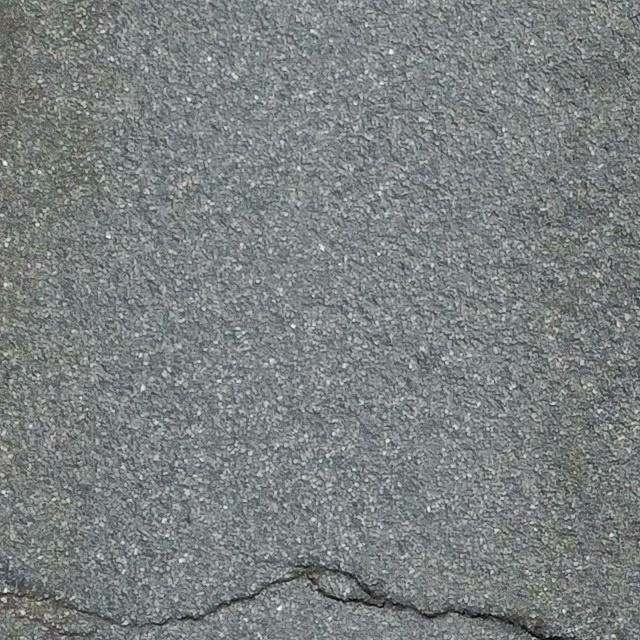TransverseCrack: (1, 559, 538, 640)
